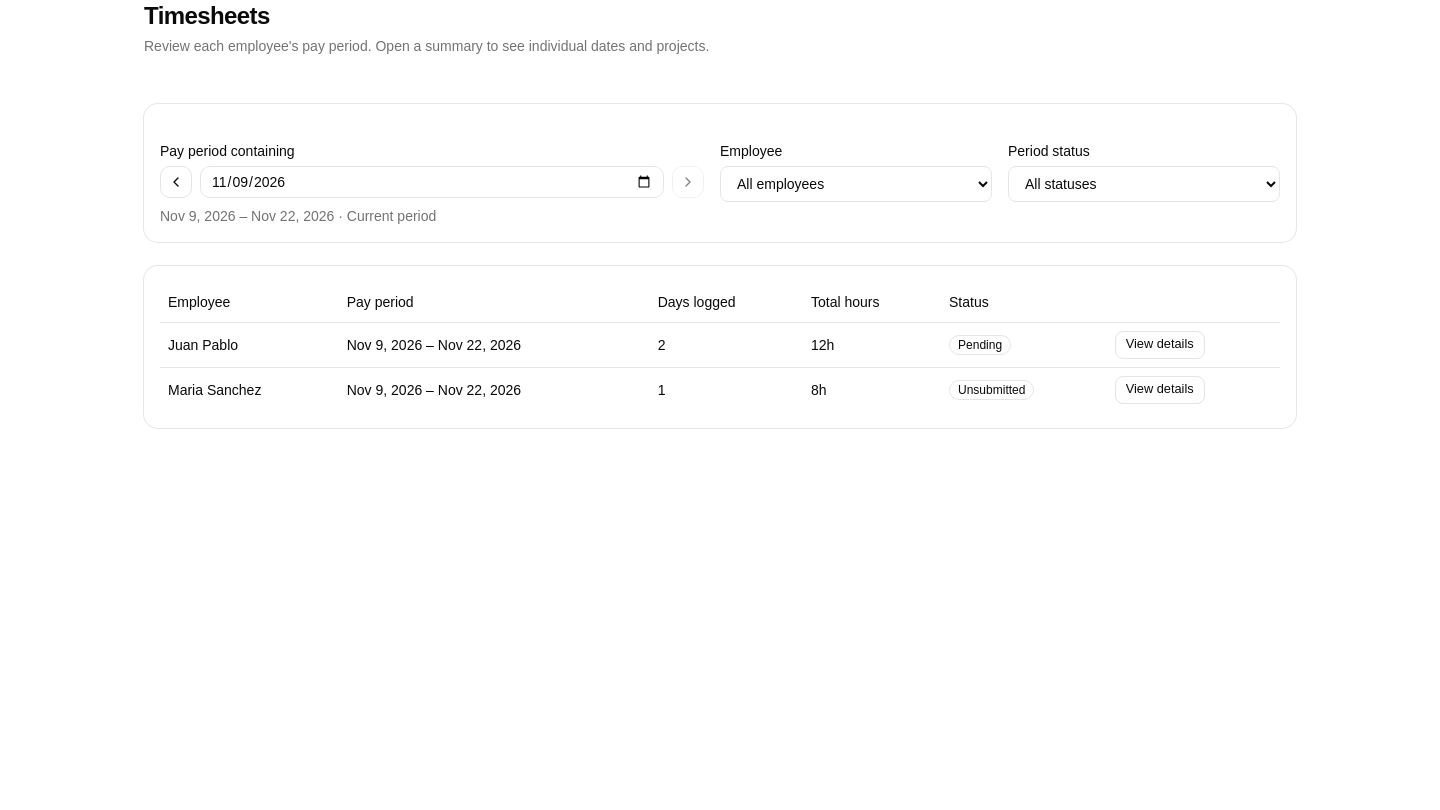
Scenario: employee and status filters operate on entire summaries
The width and height of the screenshot is (1440, 810).
Check: the button with aria-label "View Juan Pablo's timesheet details" is shown, box [1115, 330, 1205, 358]
Select "Juan Pablo" in the dropdown labelled "Employee". click: point(856, 184)
box: [720, 166, 992, 202]
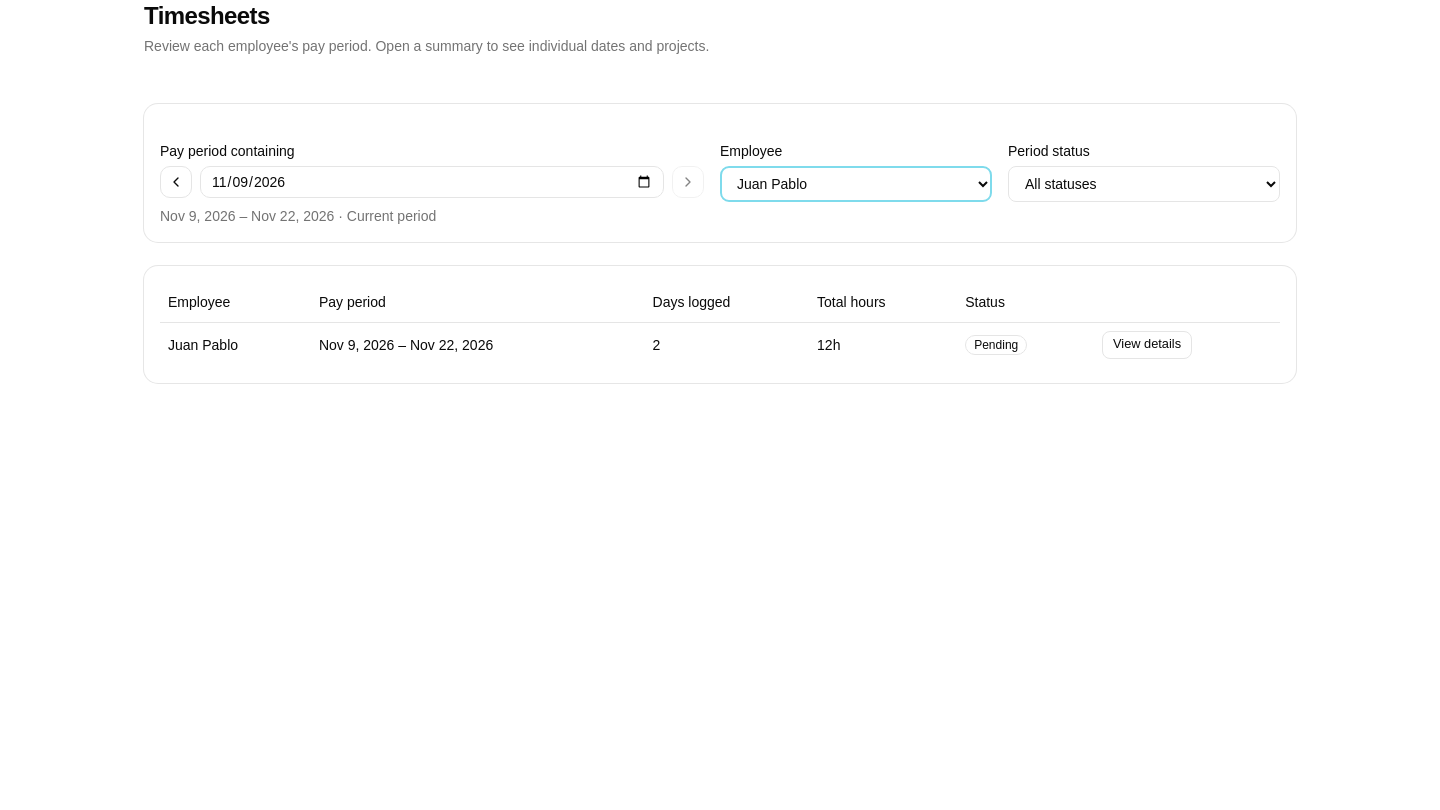
Select "Approved" in the dropdown labelled "Period status". click: point(1144, 184)
box: [1008, 166, 1280, 202]
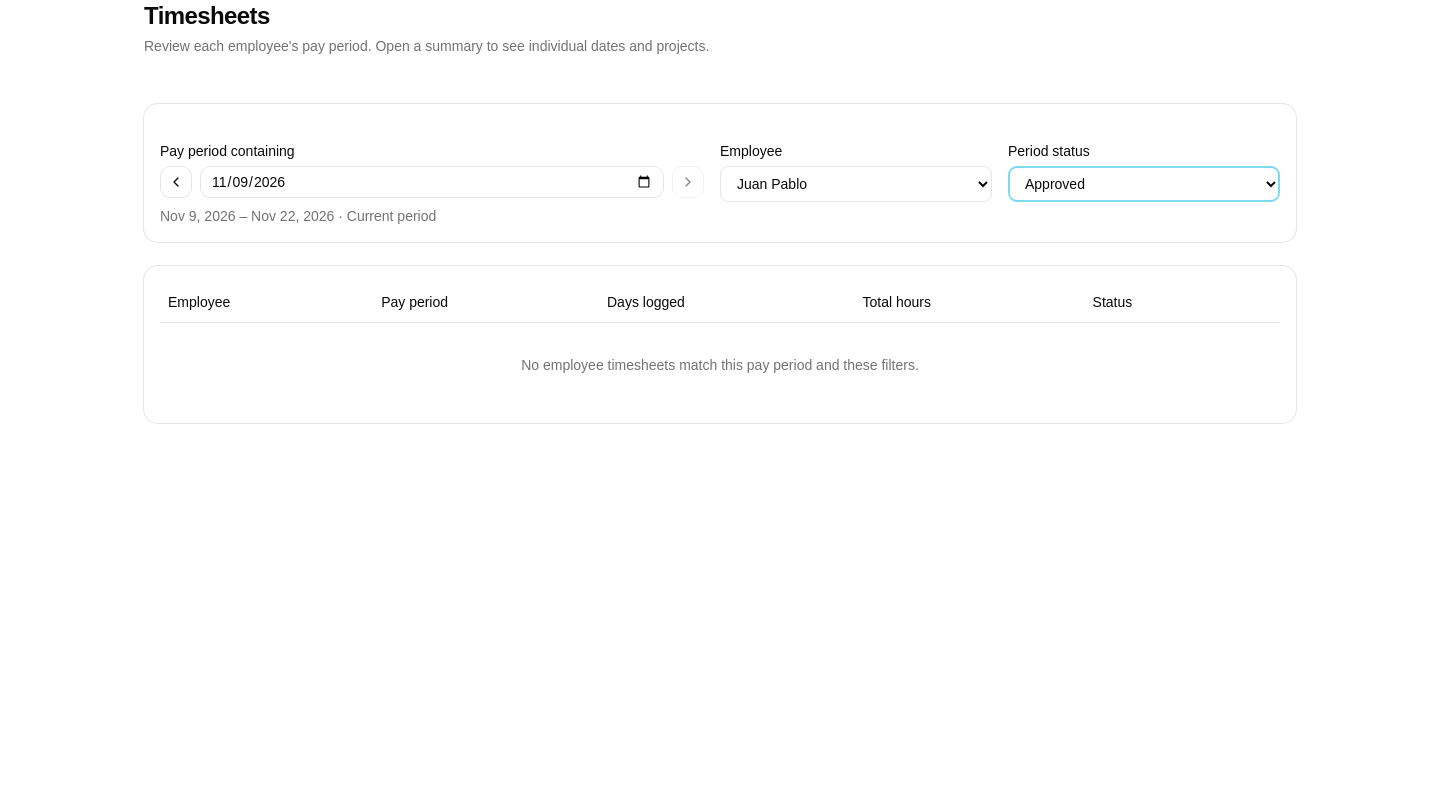
Check: the text "No employee timesheets match" is shown, box [521, 356, 919, 372]
Select "Pending" in the dropdown labelled "Period status". click: point(1144, 184)
box: [1008, 166, 1280, 202]
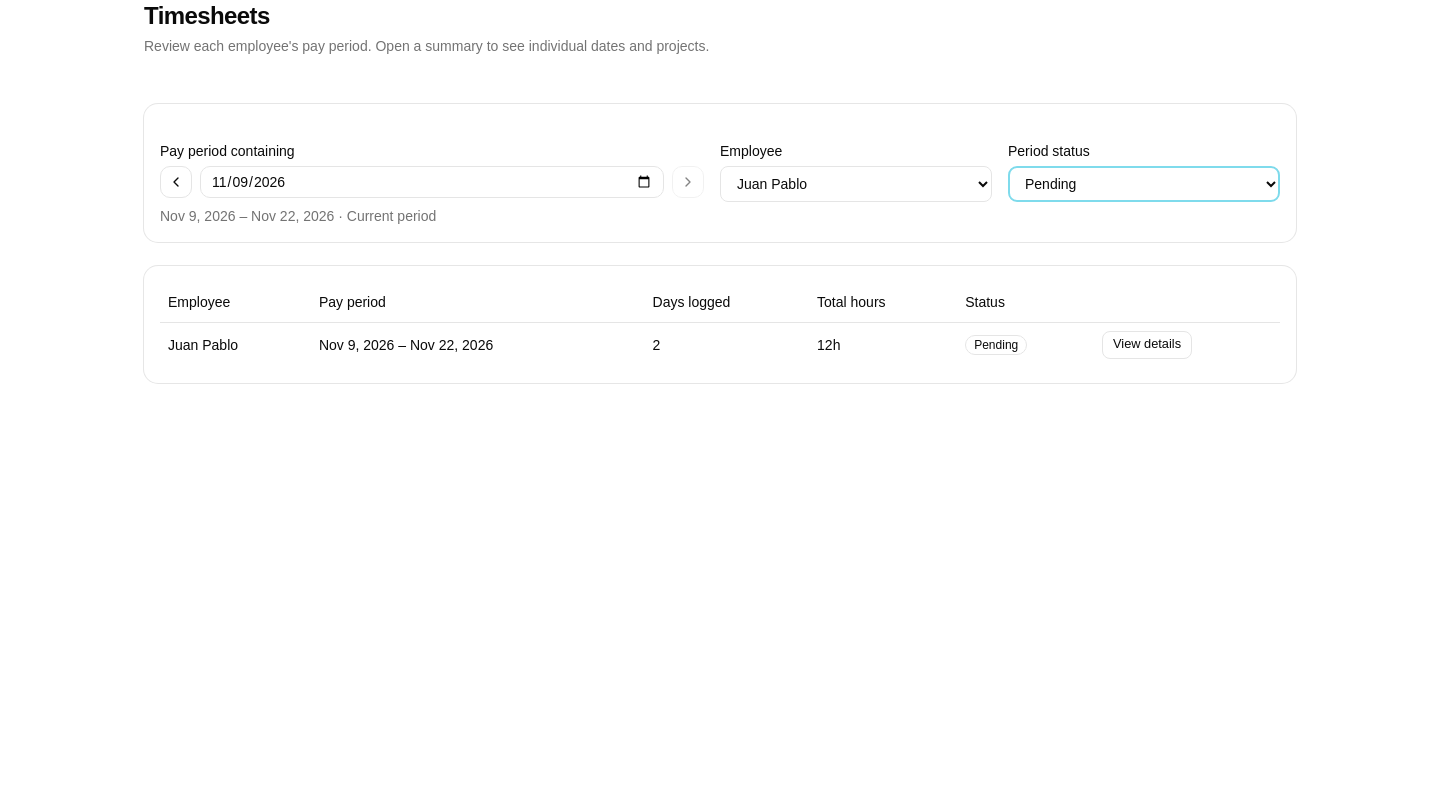
Click the button with aria-label "View Juan Pablo's timesheet details". click: point(1147, 344)
box: [1102, 330, 1192, 358]
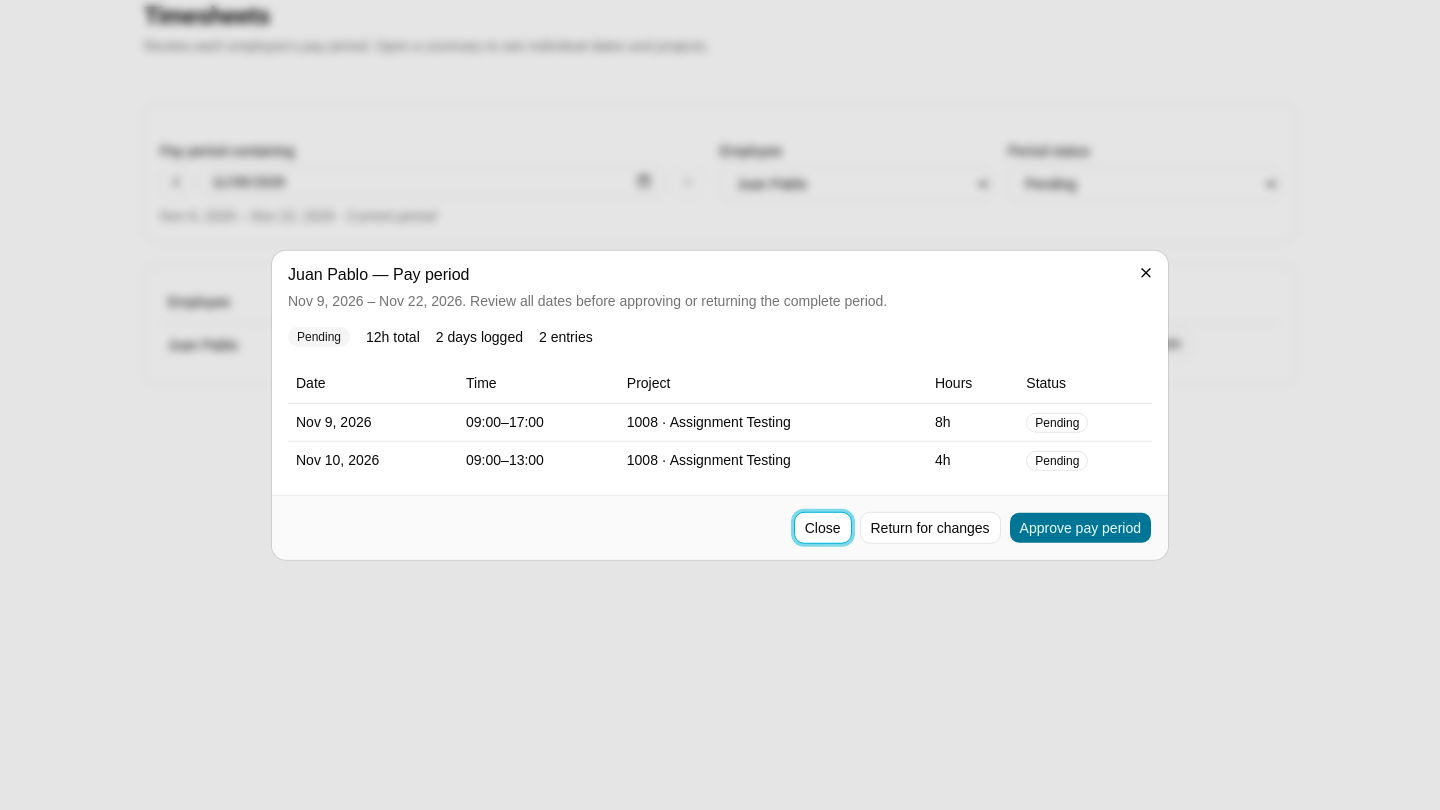
Check: the text "2 entries" is shown, box [539, 327, 593, 347]
